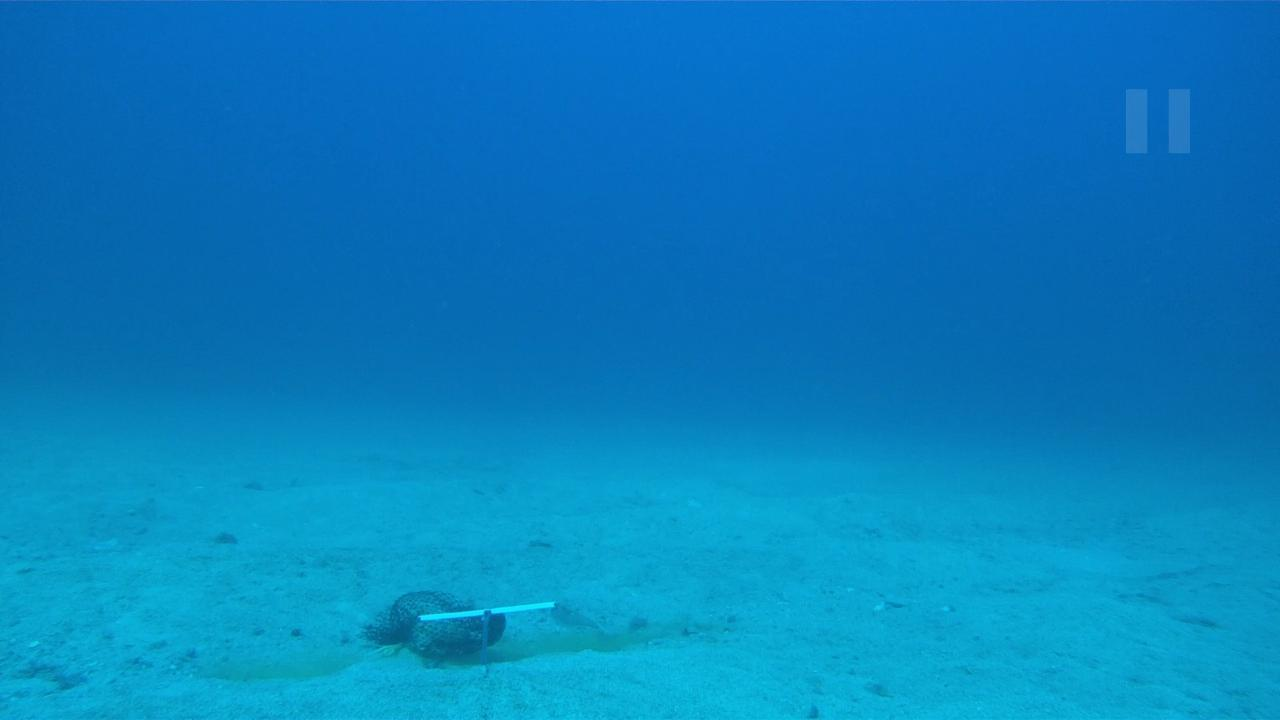bothus: (548, 592, 642, 635)
